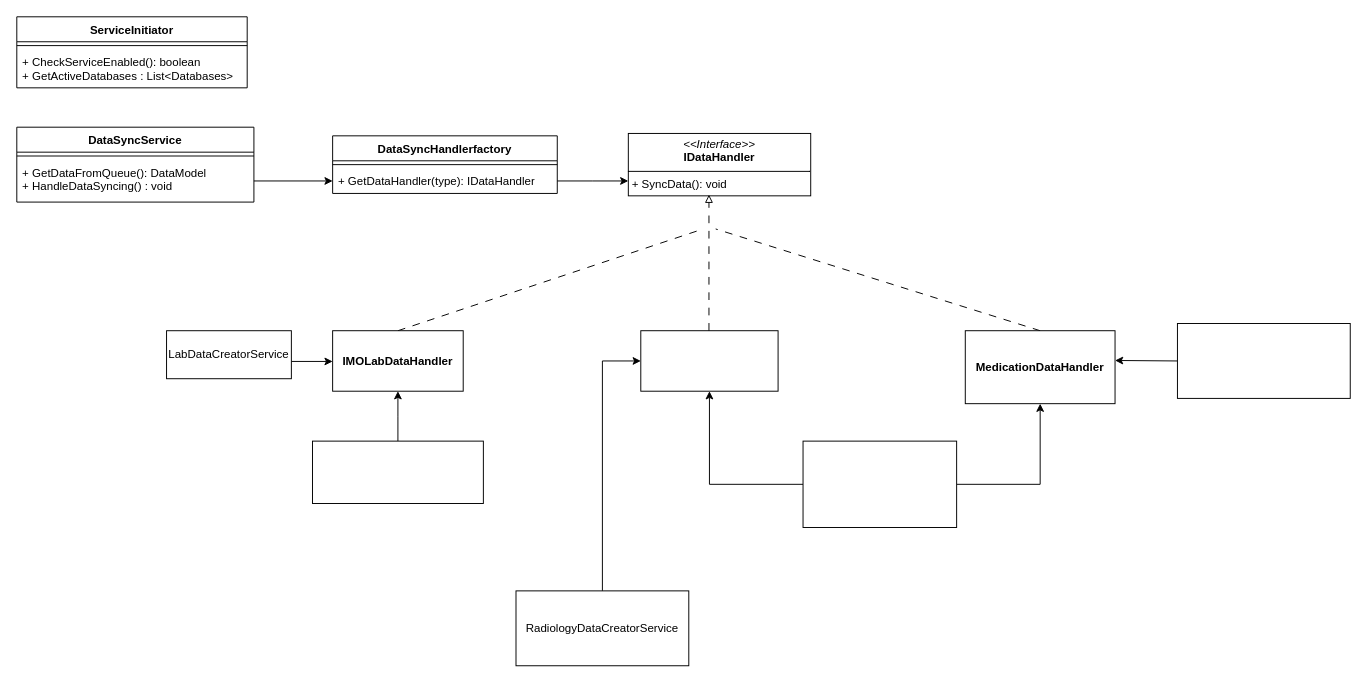
This 1367x683 diagram has some shape labels left out. Each missing label, with the centre of its shape:
"ELK Push Service + PushDataToELK(): void" goes at pixel 879 484.
"IMOSFTPOutboundService + PushDataToSFTP(): Type" goes at pixel 397 472.
"MedicationDataCreatorService" goes at pixel 1263 360.
"RadiologyDataHandler" goes at pixel 709 360.
